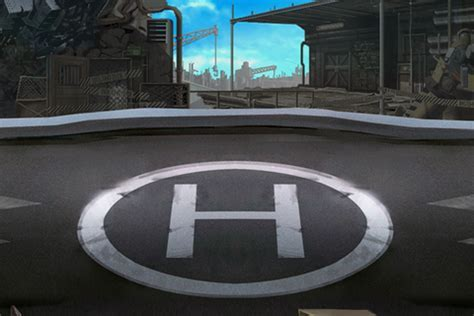H: (165, 183, 306, 260)
